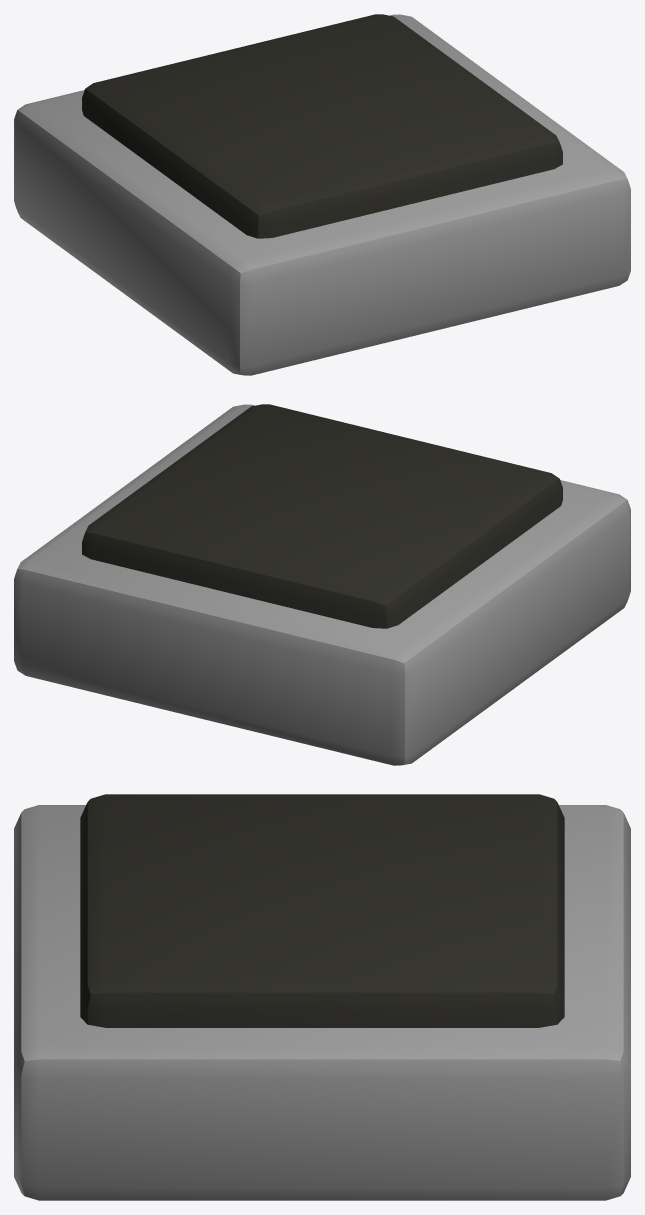
The model's file is PressButton.obj.
3 renders of one model, top to bottom at view 1: azimuth 30°, elevation 25°; view 2: azimuth 150°, elevation 25°; view 3: azimuth 270°, elevation 25°, orthographic. The views are drawn at different scales.
Visible parts, largest first — view 1: Button_Pressed_Cube.510; view 2: Button_Pressed_Cube.510; view 3: Button_Pressed_Cube.510.
Part boxes in pixels (x1,y1,x2,y2): Button_Pressed_Cube.510: (14, 14, 630, 375); Button_Pressed_Cube.510: (14, 404, 630, 765); Button_Pressed_Cube.510: (14, 794, 630, 1200).
Bounding box in the file's own units: 0.9917 × 0.3427 × 0.9917.
